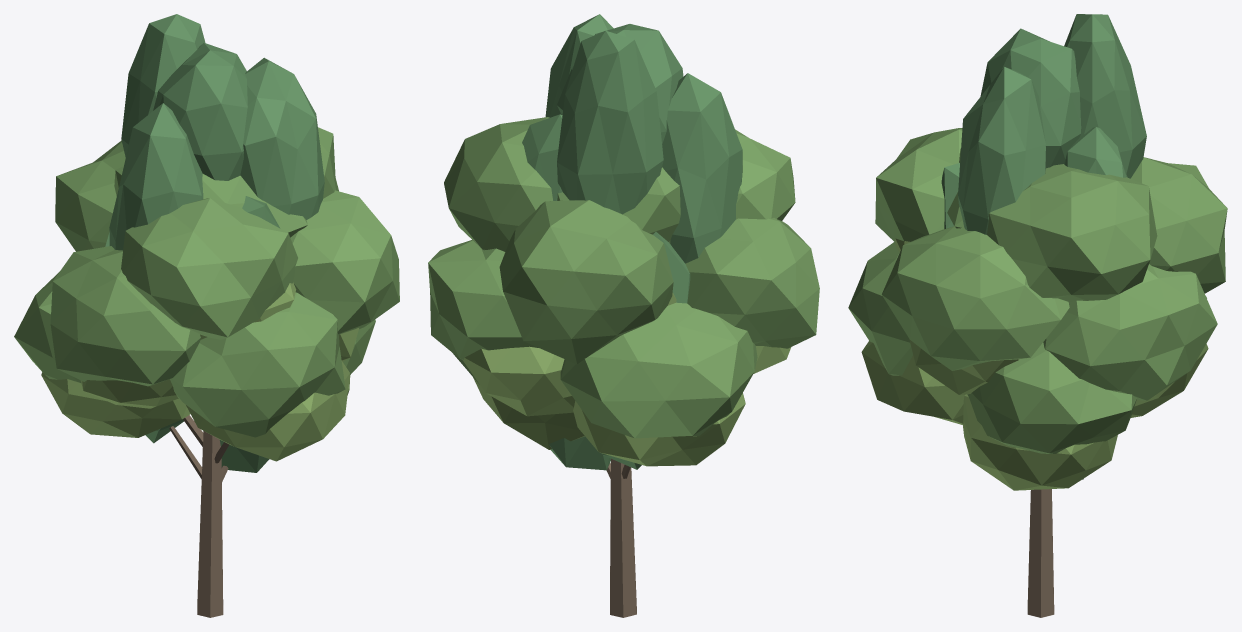
Rendered from e19c2a2243d1-tree-library.glb.
3 views of the same model, side by side, from view 1: azimuth 30°, elevation 25°; view 2: azimuth 150°, elevation 25°; view 3: azimuth 270°, elevation 25° (orthographic). The views are drawn at different scales.
Parts seen in each view (by area): view 1: tree_oak_lod0, tree_columnar_lod0, tree_maple_lod0; view 2: tree_oak_lod0, tree_columnar_lod0, tree_maple_lod0; view 3: tree_oak_lod0, tree_columnar_lod0, tree_maple_lod0.
Boxes of the visible parts, <box> form: tree_oak_lod0: <box>14,127,399,617</box>; tree_columnar_lod0: <box>105,14,324,472</box>; tree_maple_lod0: <box>41,282,358,481</box>; tree_oak_lod0: <box>428,117,819,617</box>; tree_columnar_lod0: <box>522,14,742,470</box>; tree_maple_lod0: <box>462,292,791,478</box>; tree_oak_lod0: <box>848,128,1227,617</box>; tree_columnar_lod0: <box>941,14,1146,479</box>; tree_maple_lod0: <box>861,238,1208,490</box>.
Size of what is drawn, in the model's own units: 7.56 by 12.87 by 7.47.
